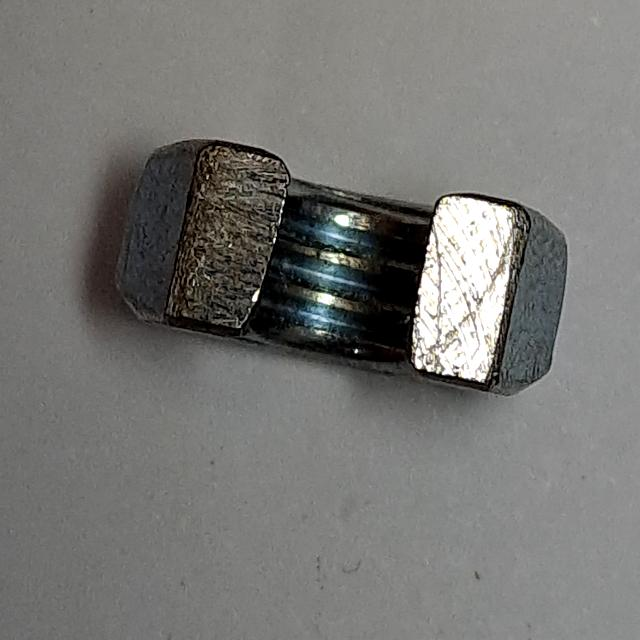Side-Fracture: (100, 130, 586, 410)
